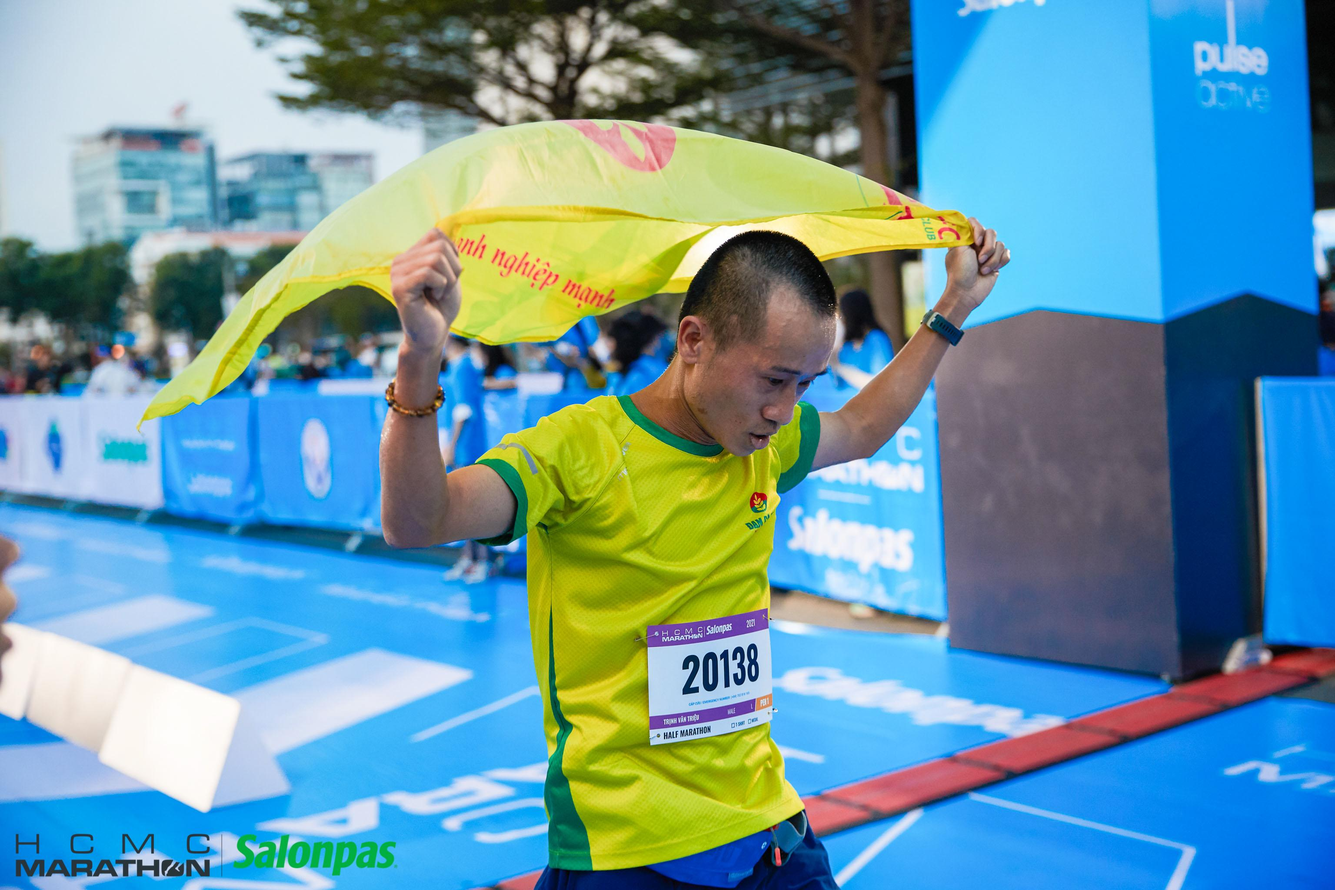bib: (646, 619, 773, 746)
